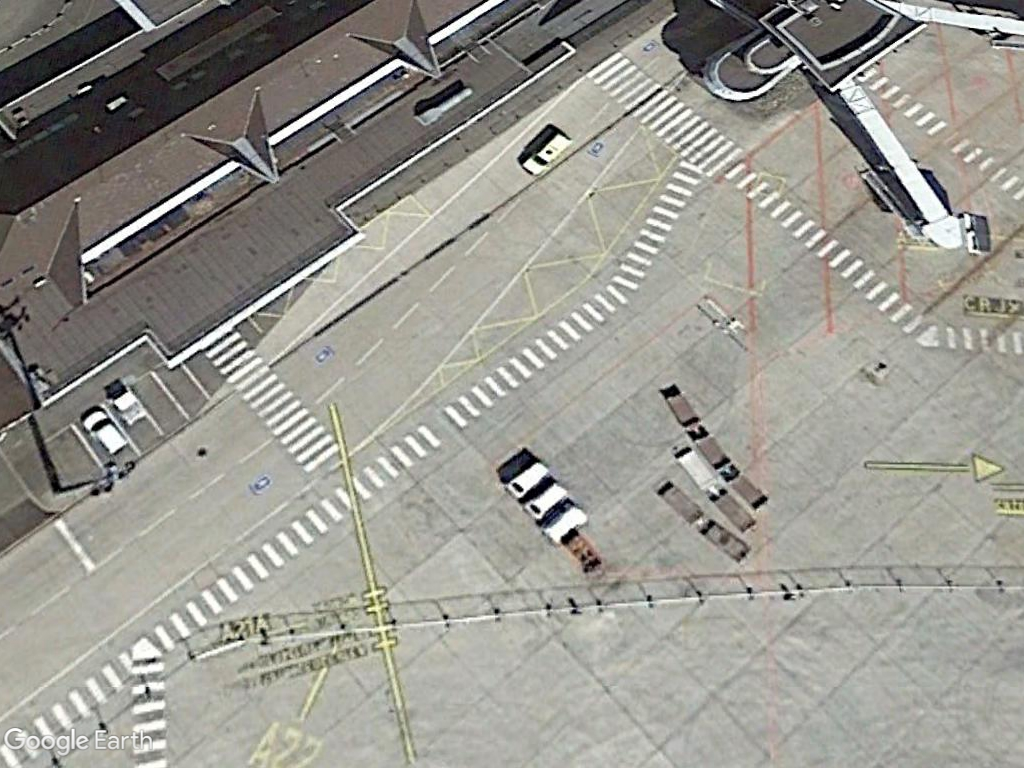van: (75, 403, 129, 457), (520, 127, 575, 180)
